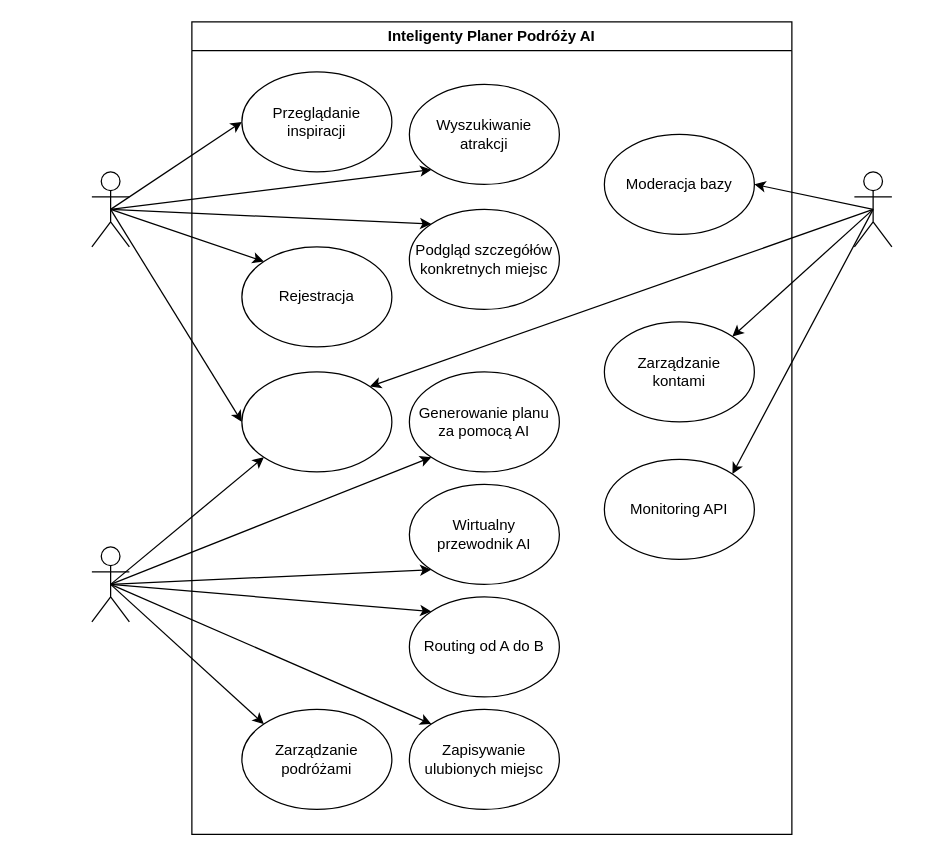
Image size: 939x856. Some labels were removed from this diagram. The shapes that lost their labels are listed below. From the top down, each one's centre as x and y in pixels, then its label:
pixel 110 209: Użytkownik niezalogowany
pixel 872 209: Administrator
pixel 316 421: Logowanie
pixel 110 584: Użytkownik zalogowany
